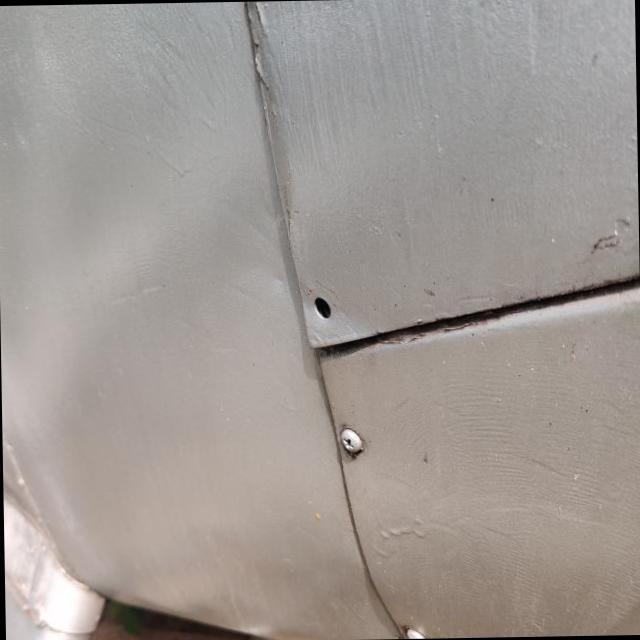Missing Fastener: (312, 296, 330, 318)
